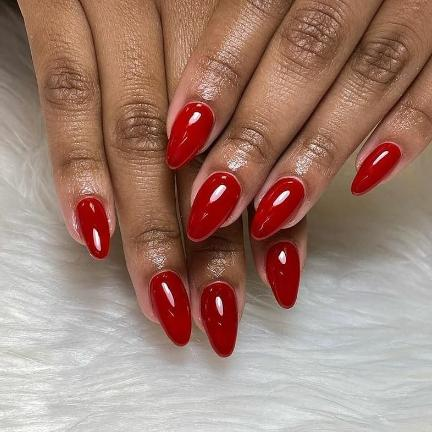Nail: (185, 172, 240, 242), (249, 177, 304, 241), (164, 102, 213, 170), (148, 270, 191, 347), (199, 281, 238, 358), (350, 141, 402, 196), (265, 241, 299, 309), (73, 196, 109, 259)
